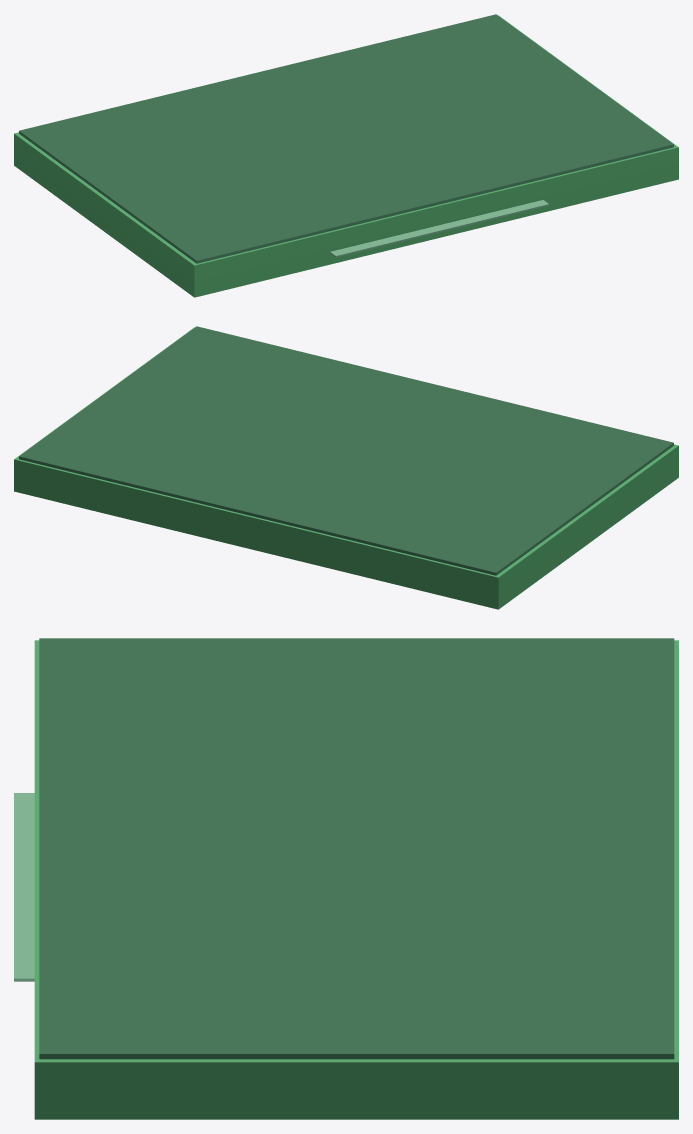
The picture shows the model from 3 angles, top to bottom: view 1: azimuth 30°, elevation 25°; view 2: azimuth 150°, elevation 25°; view 3: azimuth 270°, elevation 25°; orthographic projection. The views are drawn at different scales.
Visible parts, largest first — view 1: shell; view 2: shell; view 3: shell.
Boxes of the visible parts, x1=… form: shell: x1=14, y1=14, x2=678, y2=297; shell: x1=14, y1=326, x2=678, y2=609; shell: x1=14, y1=638, x2=678, y2=1119.
Size of the model in its own units: 155 by 10.7 by 103.
